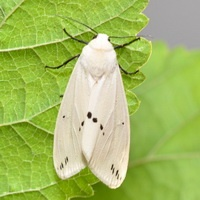insect: (53, 32, 140, 188)
